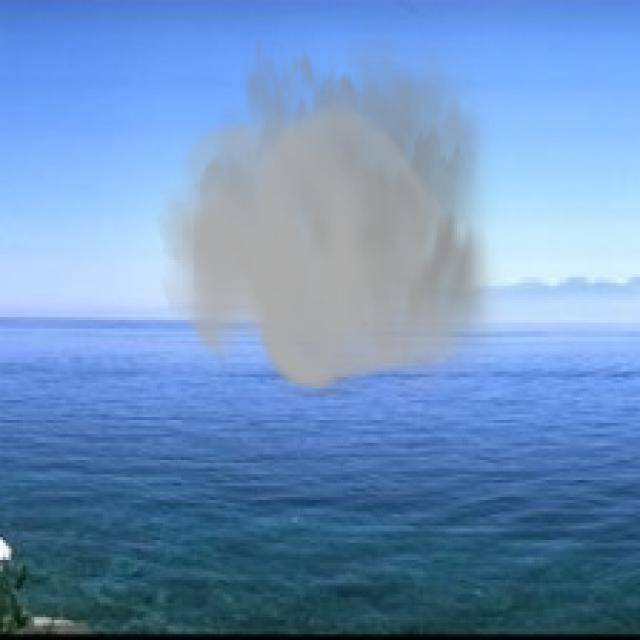smoke: (157, 3, 506, 397)
